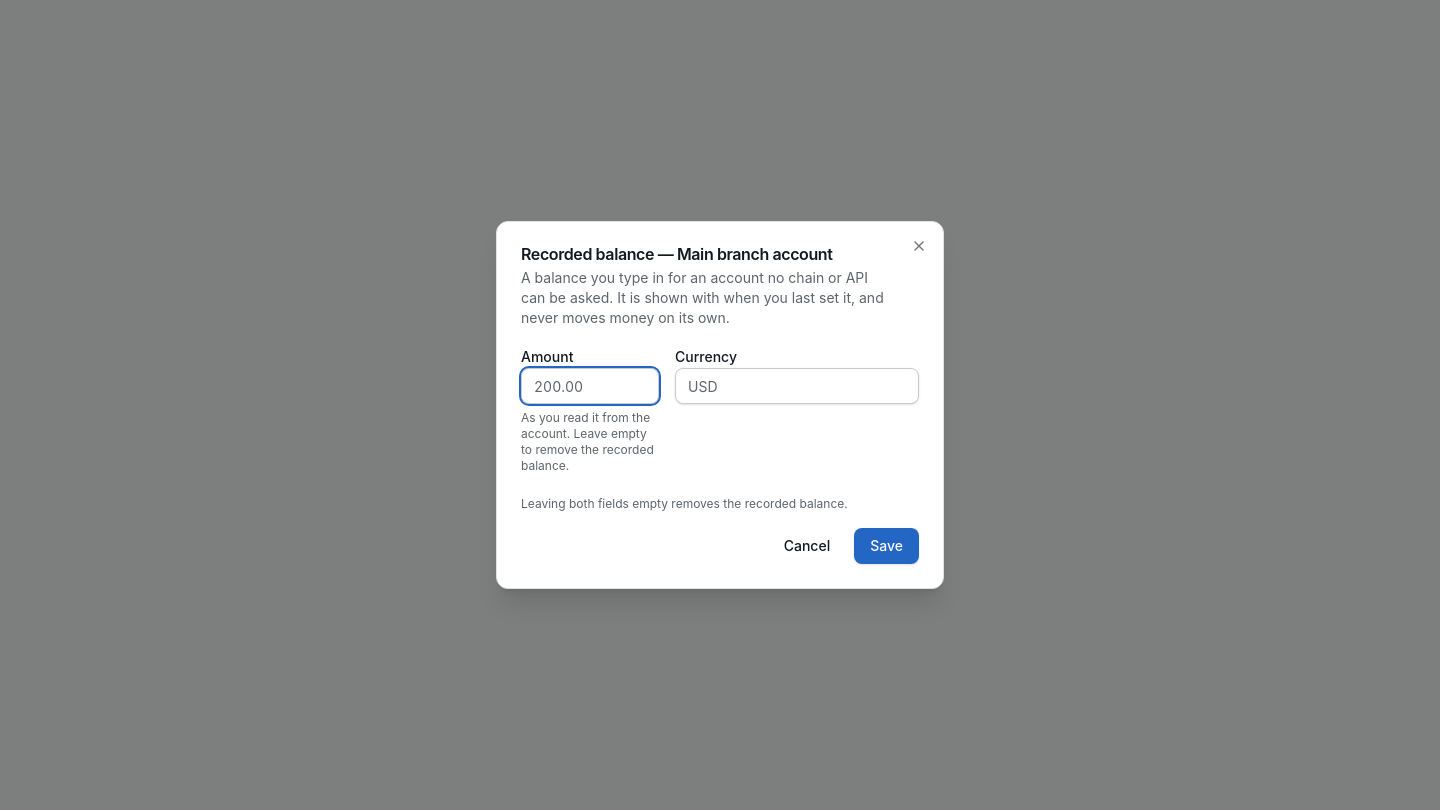
the recorded-balance dialog › refuses an amount with no currency — a half-set balance is not a balance
In the field labelled "Amount": {"x": 590, "y": 386} x1=521 y1=368 x2=659 y2=404, type "200"
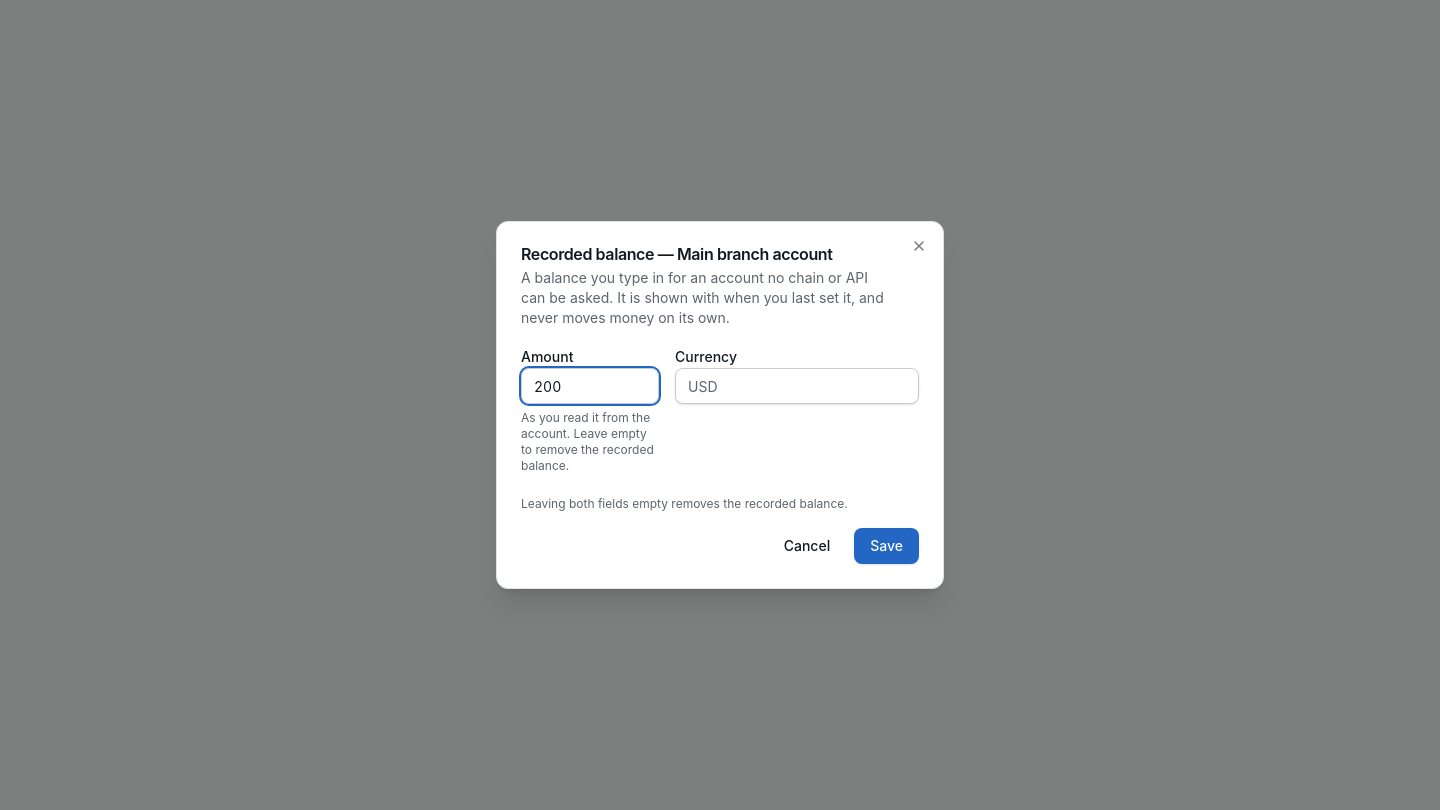
Click the button "Save": {"x": 887, "y": 546} x1=854 y1=528 x2=919 y2=564
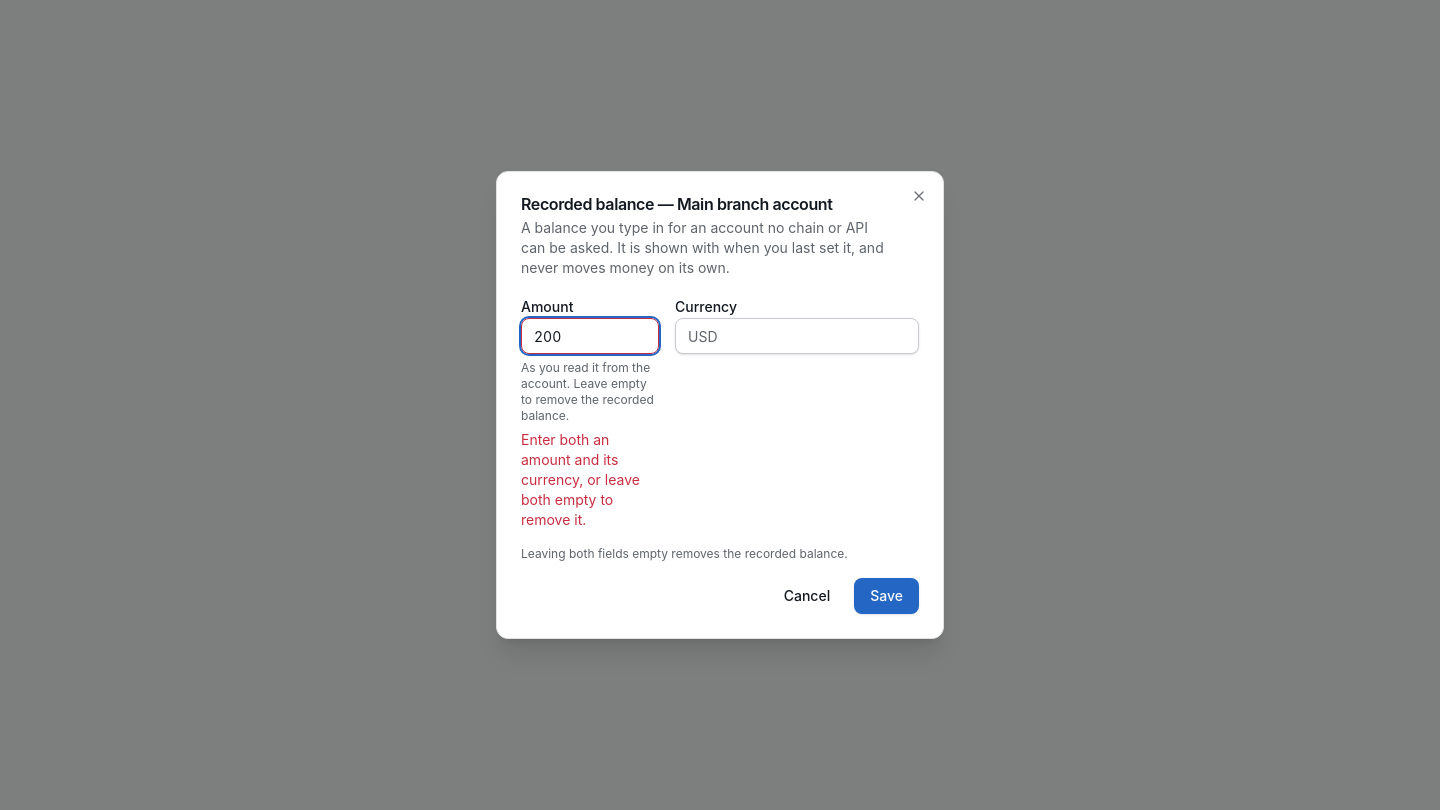
Check: the text "Enter both an amount and its currency, or leave both empty to remove it." is shown, box x1=521 y1=430 x2=659 y2=530
